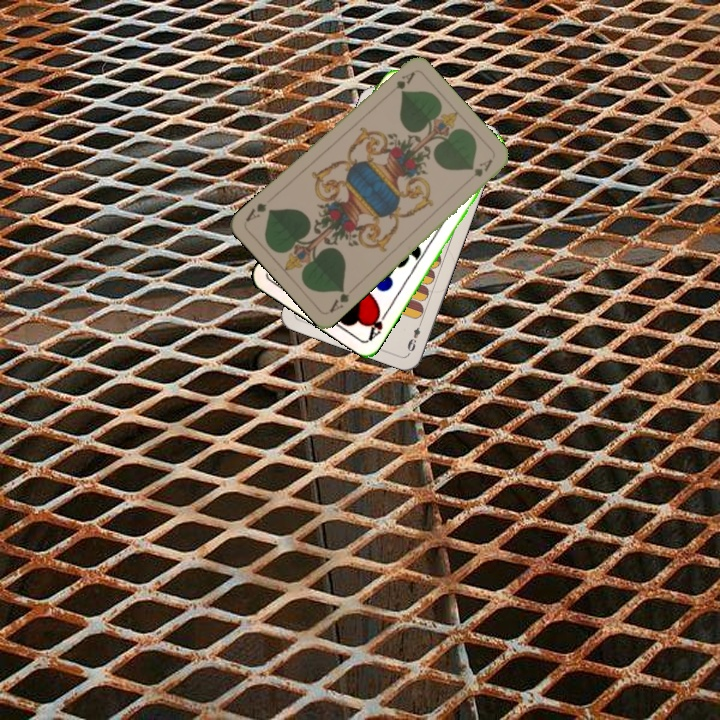E9: (403, 316, 425, 354)
GA: (325, 284, 352, 316), (392, 68, 417, 92)
HA: (364, 306, 392, 343)
